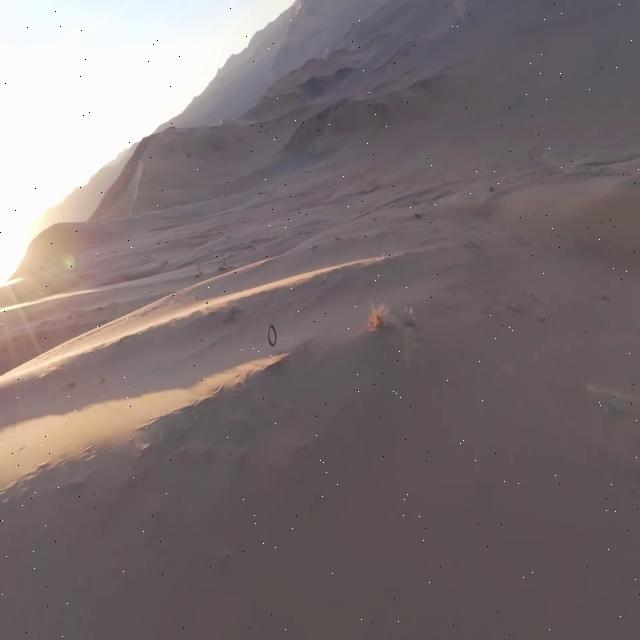Tire: (268, 325, 277, 347)
